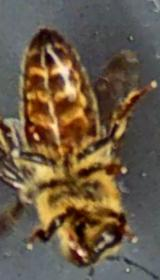varroa_mite: (21, 117, 48, 152)
